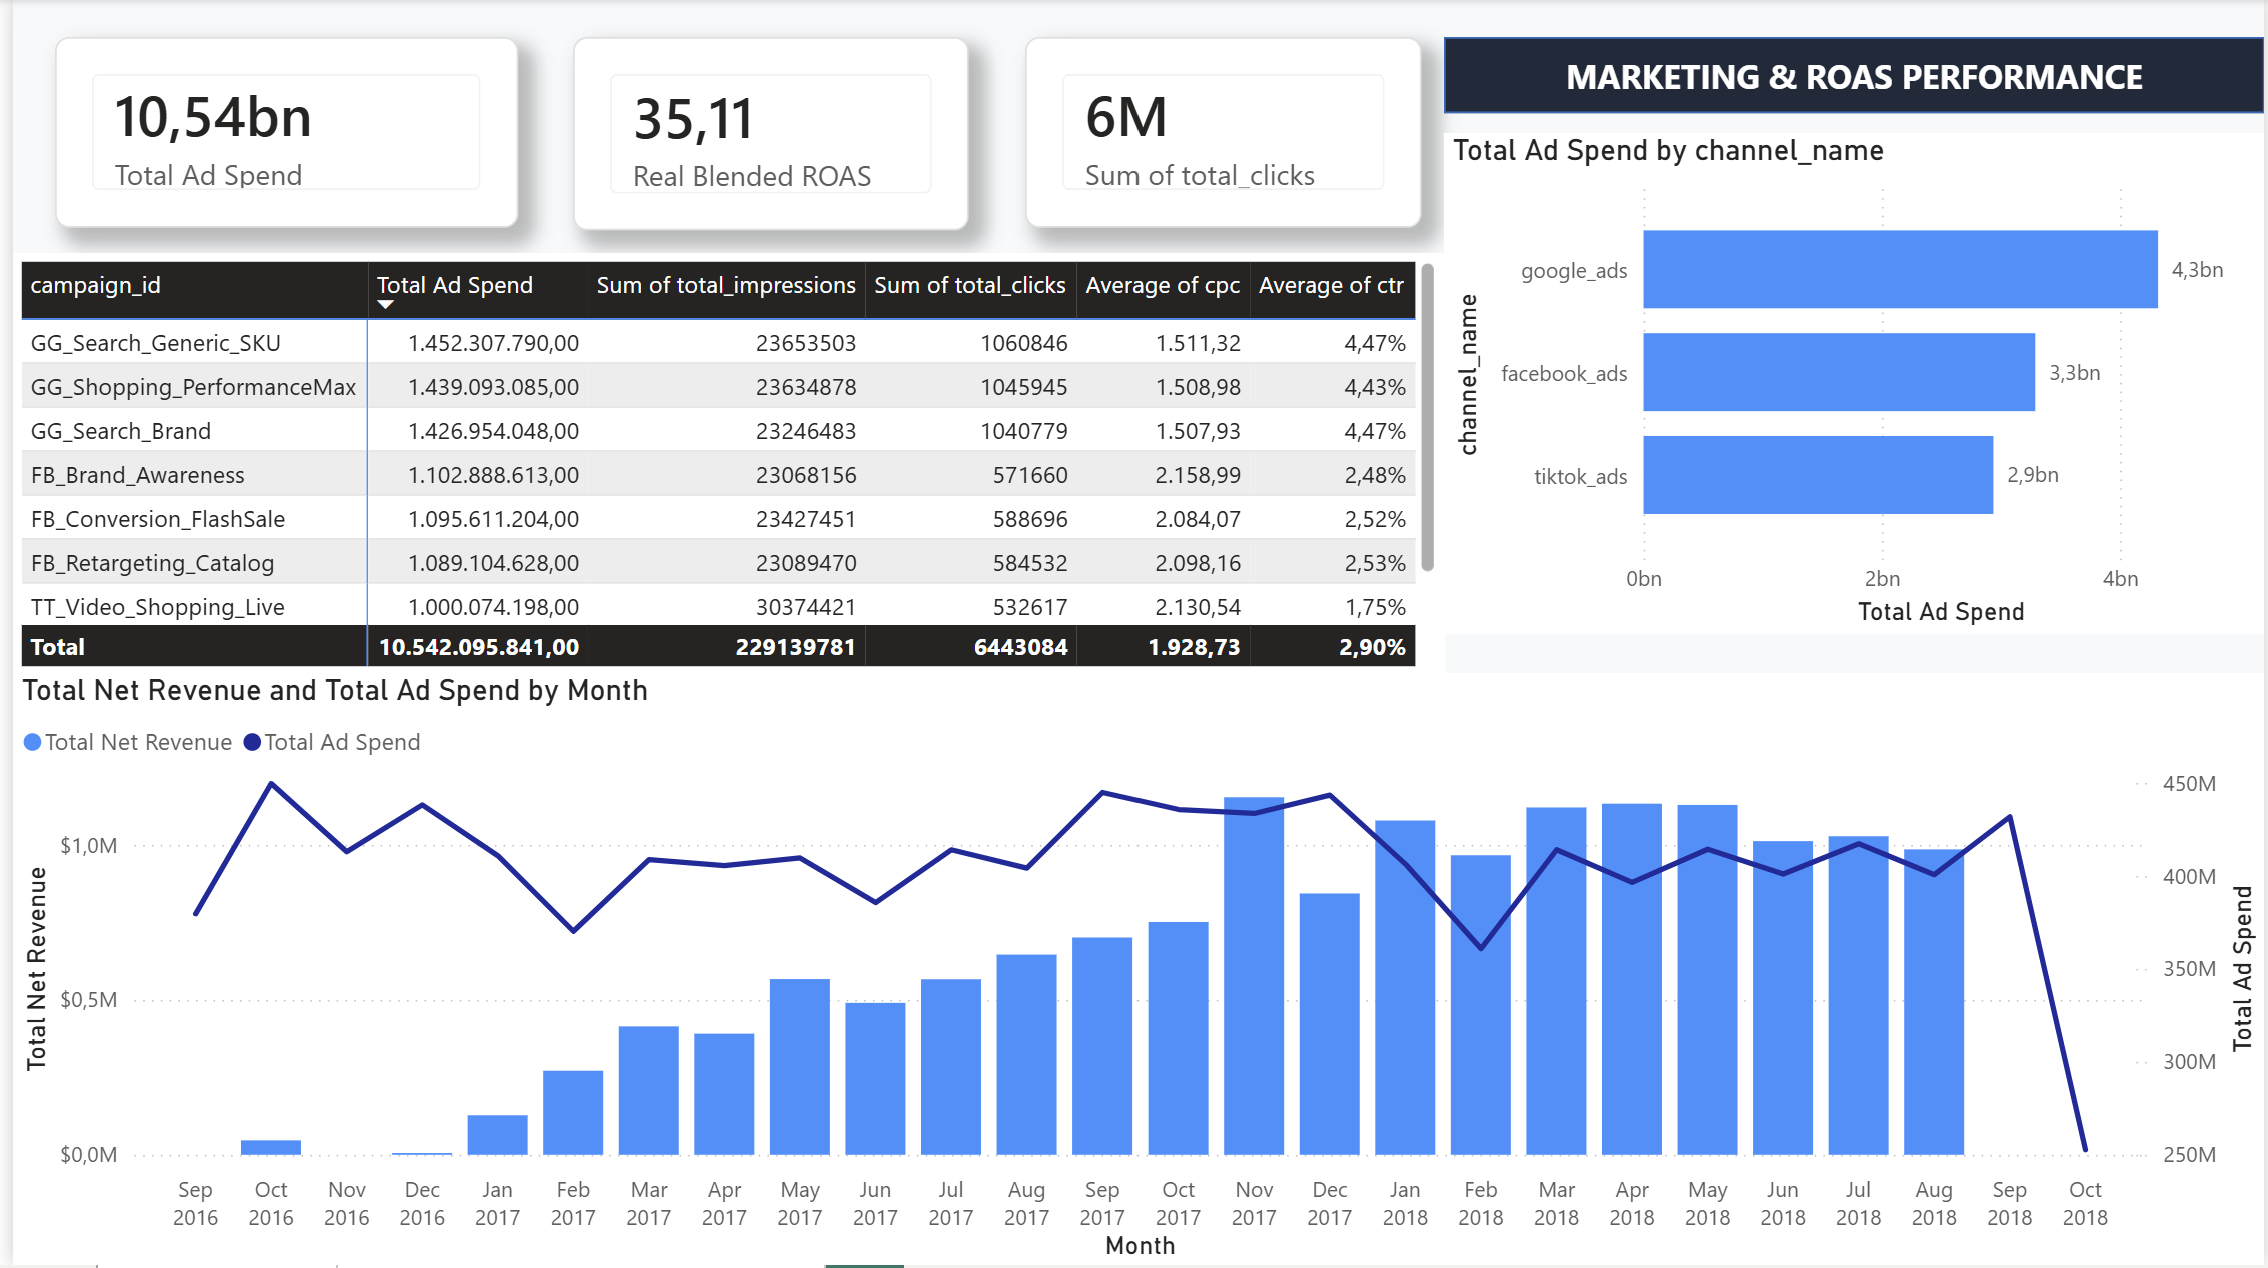

The dashboard page shown, as its layout file describes it:
{"tool":"powerbi","page":{"name":"MARKETING & ROAS PERFORMANCE","canvas":[1280,720],"ordinal":1},"visuals":[{"type":"cardVisual","fields":{"Data":["_Measures.Total Ad Spend"]},"box":[0,0,263.3,130],"z":0},{"type":"cardVisual","fields":{"Data":["_Measures.Real Blended ROAS"]},"box":[261.7,0,281.7,130],"z":1000},{"type":"cardVisual","fields":{"Data":["Sum(public_marts fact_marketing_daily.total_clicks)"]},"box":[543.3,1.7,255,128.3],"z":2000},{"type":"clusteredBarChart","fields":{"Category":["public_marts fact_marketing_daily.channel_name"],"Y":["_Measures.Total Ad Spend"]},"box":[813.3,0,468.3,360],"z":3000},{"type":"pivotTable","fields":{"Rows":["public_marts fact_marketing_daily.campaign_id"],"Values":["_Measures.Total Ad Spend","Sum(public_marts fact_marketing_daily.total_impressions)","Sum(public_marts fact_marketing_daily.total_clicks)","Avg(public_marts fact_marketing_daily.cpc)","Avg(public_marts fact_marketing_daily.ctr)"]},"box":[0,130,813.3,253.3],"z":4000},{"type":"lineClusteredColumnComboChart","fields":{"Category":["Dim_Date.Date"],"Y":["_Measures.Total Net Revenue"],"Y2":["_Measures.Total Ad Spend"]},"box":[0,383.3,1280,338.3],"z":4001}]}

Visuals, with their boxes in screenshot pixels (x1, y1, x2, y2), scaled from the page's 1280x720 canvas onto the 2268x1268 screenshot:
cardVisual - _Measures.Total Ad Spend: 0,0,467,229
cardVisual - _Measures.Real Blended ROAS: 464,0,963,229
cardVisual - Sum(public_marts fact_marketing_daily.total_clicks): 963,3,1414,229
clusteredBarChart - public_marts fact_marketing_daily.channel_name x _Measures.Total Ad Spend: 1441,0,2267,634
pivotTable - public_marts fact_marketing_daily.campaign_id x _Measures.Total Ad Spend: 0,229,1441,675
lineClusteredColumnComboChart - Dim_Date.Date x _Measures.Total Net Revenue: 0,675,2267,1267
